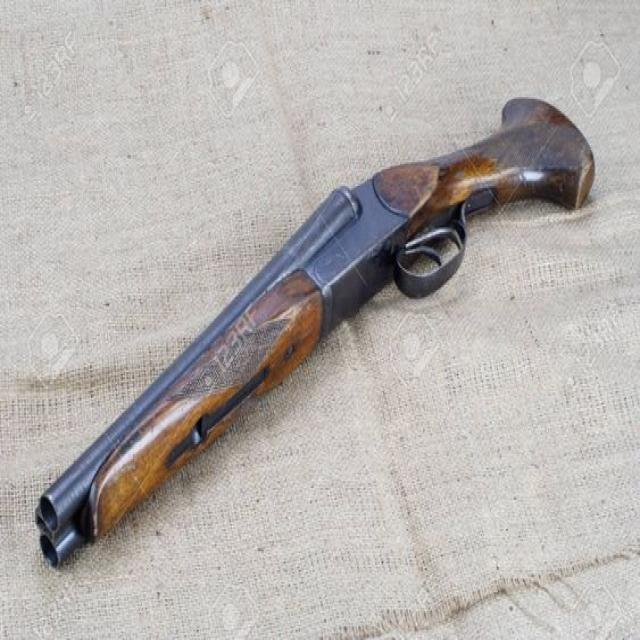shotgun: (31, 94, 602, 582)
